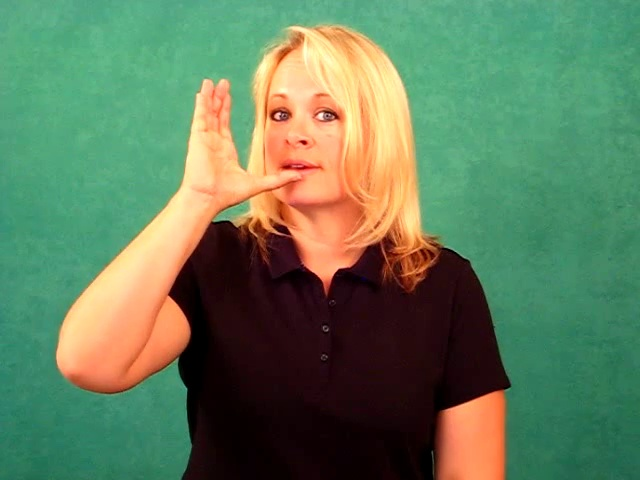drink: (177, 74, 304, 217)
